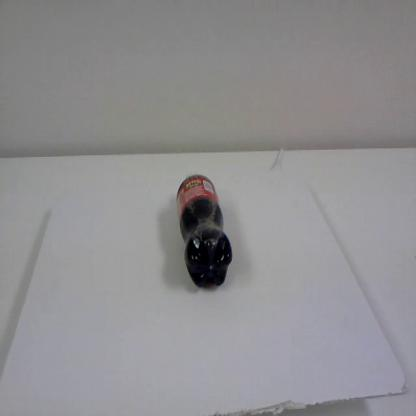bottle: (175, 168, 233, 290)
